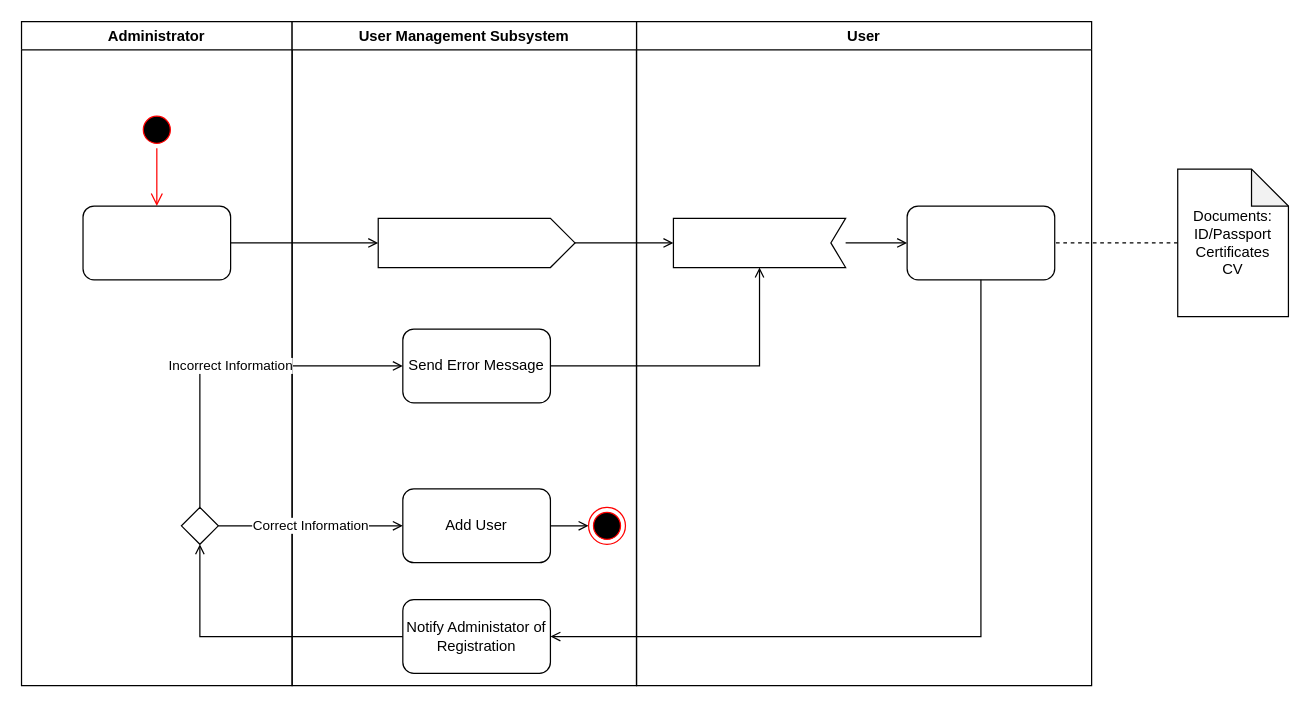
Some shapes in this 1310 by 707 pixel diagram are drawn without their labels. The centre of each missing label's shape, as x and y in pixels:
"Enter Credentials" goes at (x=759, y=242).
"Input Users Email Address" goes at (x=156, y=242).
"Send Registration Link" goes at (x=476, y=242).
"Upload Relevent Documents" goes at (x=980, y=242).
